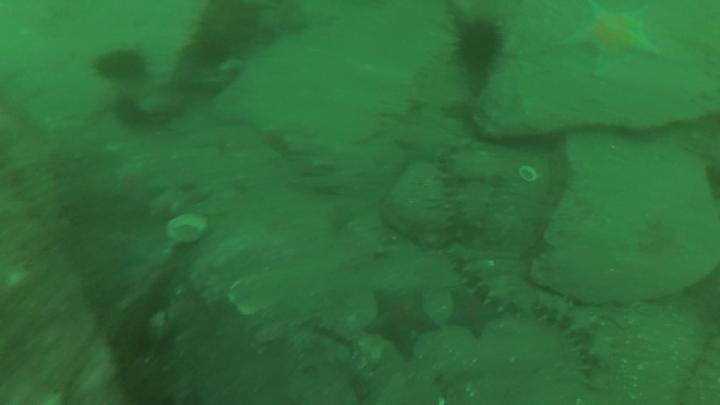echinus: (442, 15, 508, 72), (86, 40, 146, 83)
holothurian: (534, 295, 622, 376), (453, 244, 536, 318), (438, 152, 472, 240)
starfish: (563, 2, 666, 80), (365, 283, 442, 360)
